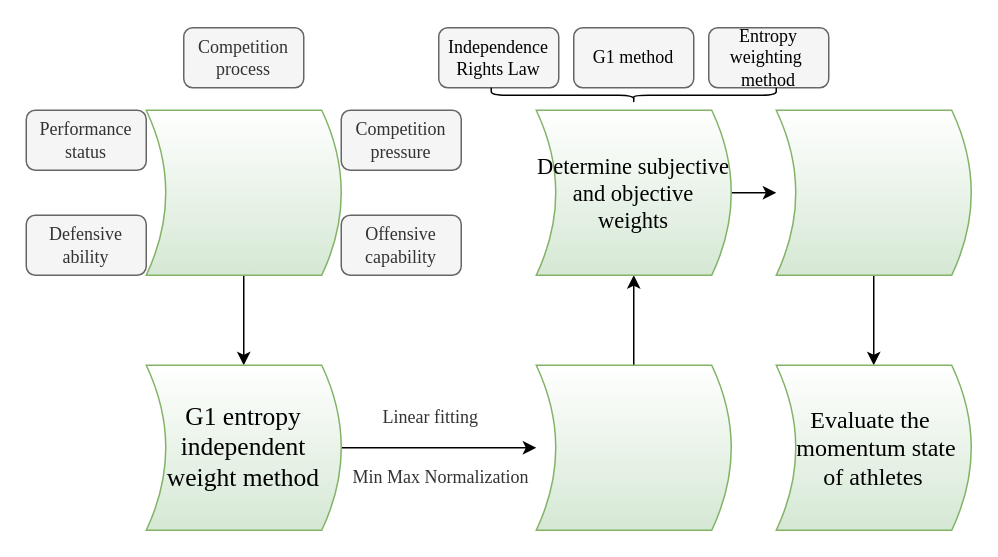
The diagram is 998 pixels wide and 557 high, and some of its shapes have lost their labels. Each missing label, with the box of its shape:
Data preprocessing: (535, 364, 731, 530)
Defining Momentum Models: (145, 109, 341, 275)
Evaluating Athlete Performance by Combining Weights: (775, 109, 971, 275)
